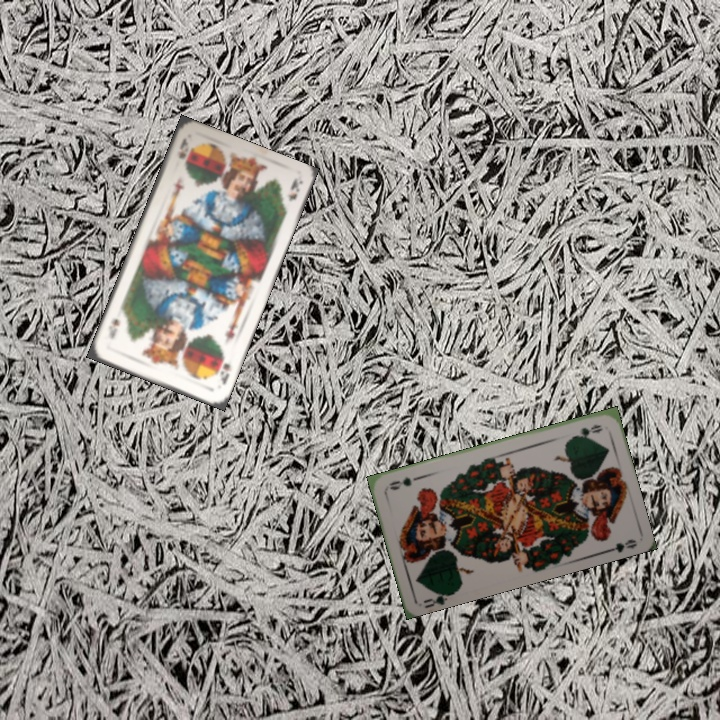GO: (567, 420, 605, 442), (419, 587, 457, 609)
SK: (216, 359, 233, 387), (174, 134, 191, 162)
